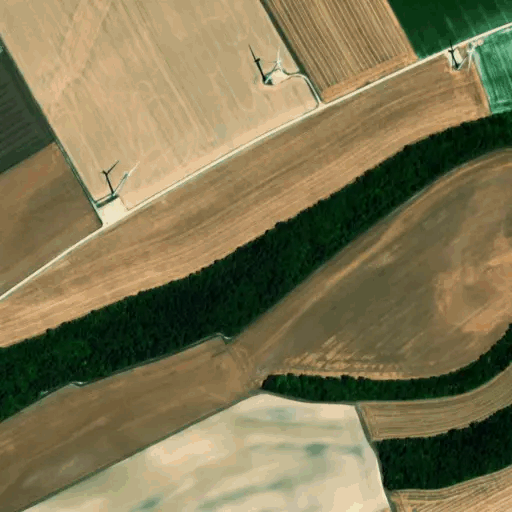wt: (244, 42, 293, 89), (96, 158, 139, 200), (447, 35, 479, 73)
